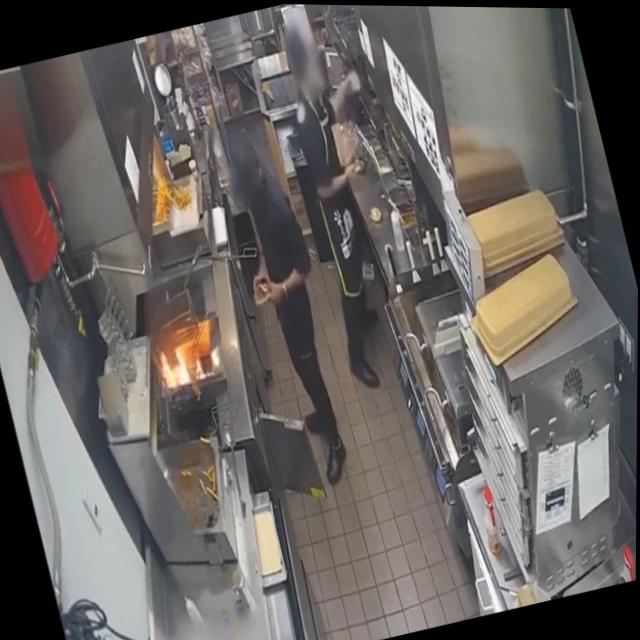fire: (153, 337, 213, 392)
